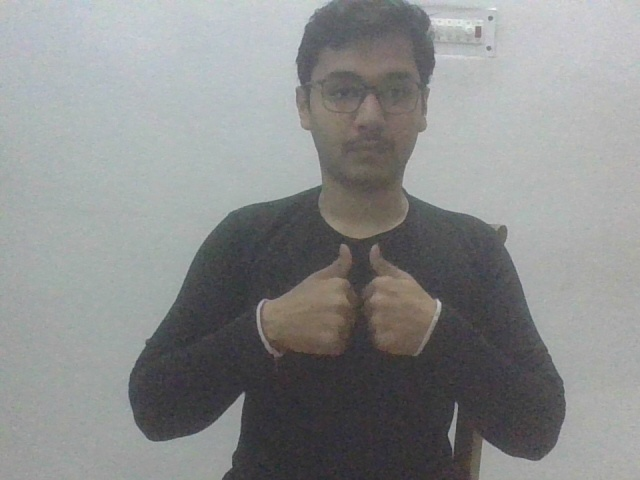A: (259, 240, 441, 370)
